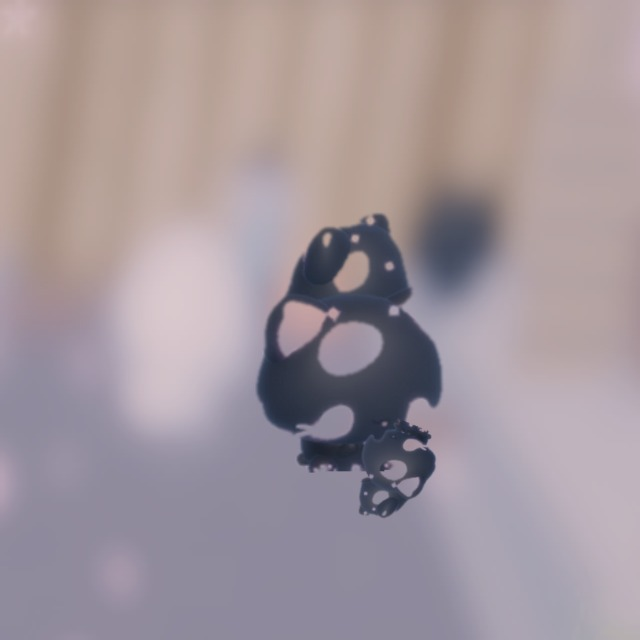urso_preto: (243, 194, 464, 474), (329, 407, 451, 542)
